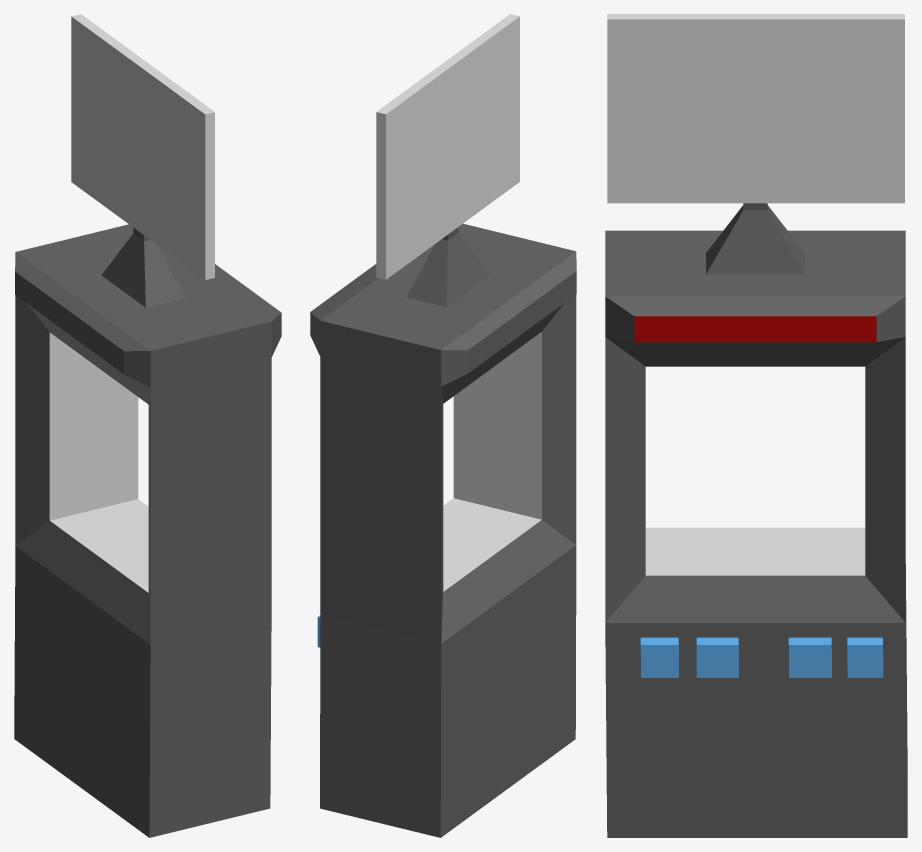
File: RecipleMachine.fbx
The picture shows the model from 3 angles, left to right: view 1: azimuth 30°, elevation 25°; view 2: azimuth 150°, elevation 25°; view 3: azimuth 270°, elevation 25°; orthographic projection. The views are drawn at different scales.
Parts seen in each view (by area): view 1: Cube; view 2: Cube; view 3: Cube.
Part boxes in pixels (x1=…): Cube: x1=14, y1=14, x2=281, y2=837; Cube: x1=310, y1=14, x2=576, y2=837; Cube: x1=605, y1=14, x2=907, y2=837.
Size of the model in its own units: 70.54 by 303 by 105.
